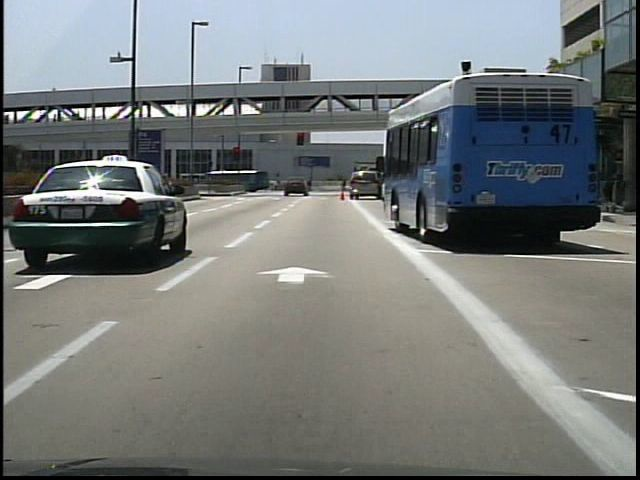person: (305, 178, 315, 194), (340, 177, 349, 192)
